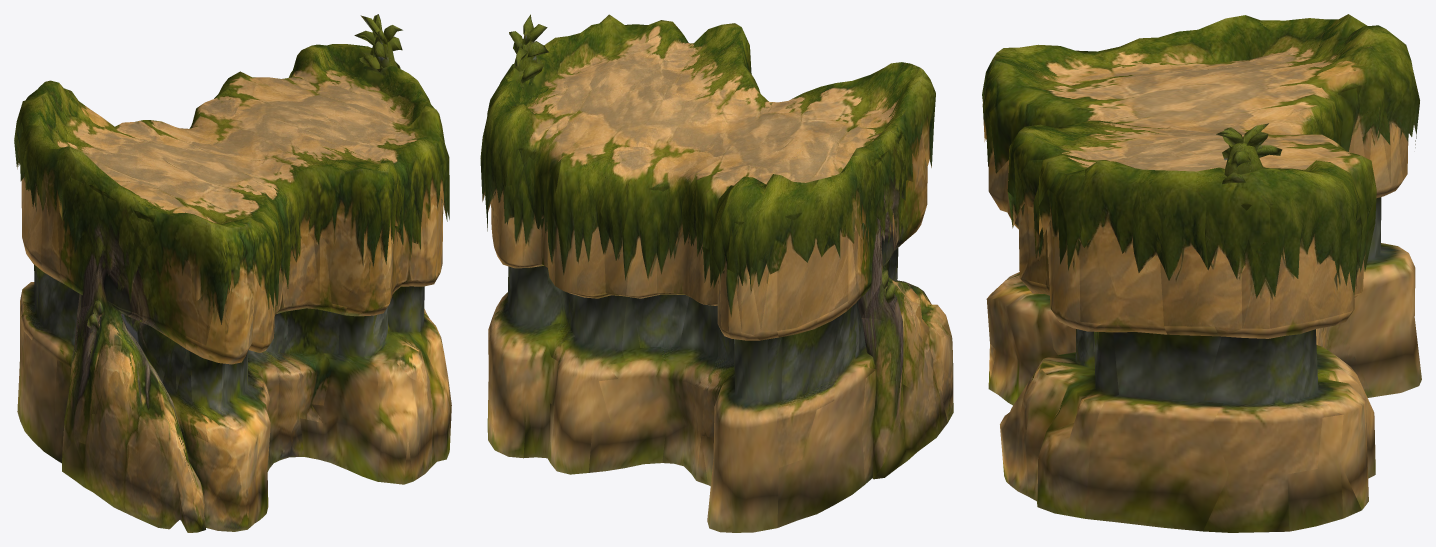
Rendered from shelf.glb.
3 renders of one model, left to right at view 1: azimuth 30°, elevation 25°; view 2: azimuth 150°, elevation 25°; view 3: azimuth 270°, elevation 25°, orthographic. The views are drawn at different scales.
Visible parts, largest first — view 1: shelf; view 2: shelf; view 3: shelf.
Boxes of the visible parts, x1=… form: shelf: x1=14, y1=14, x2=451, y2=532; shelf: x1=480, y1=14, x2=953, y2=532; shelf: x1=982, y1=14, x2=1421, y2=532.
Bounding box in the file's own units: 1 × 1 × 1.
Materials: 1 (1 with a texture image).
